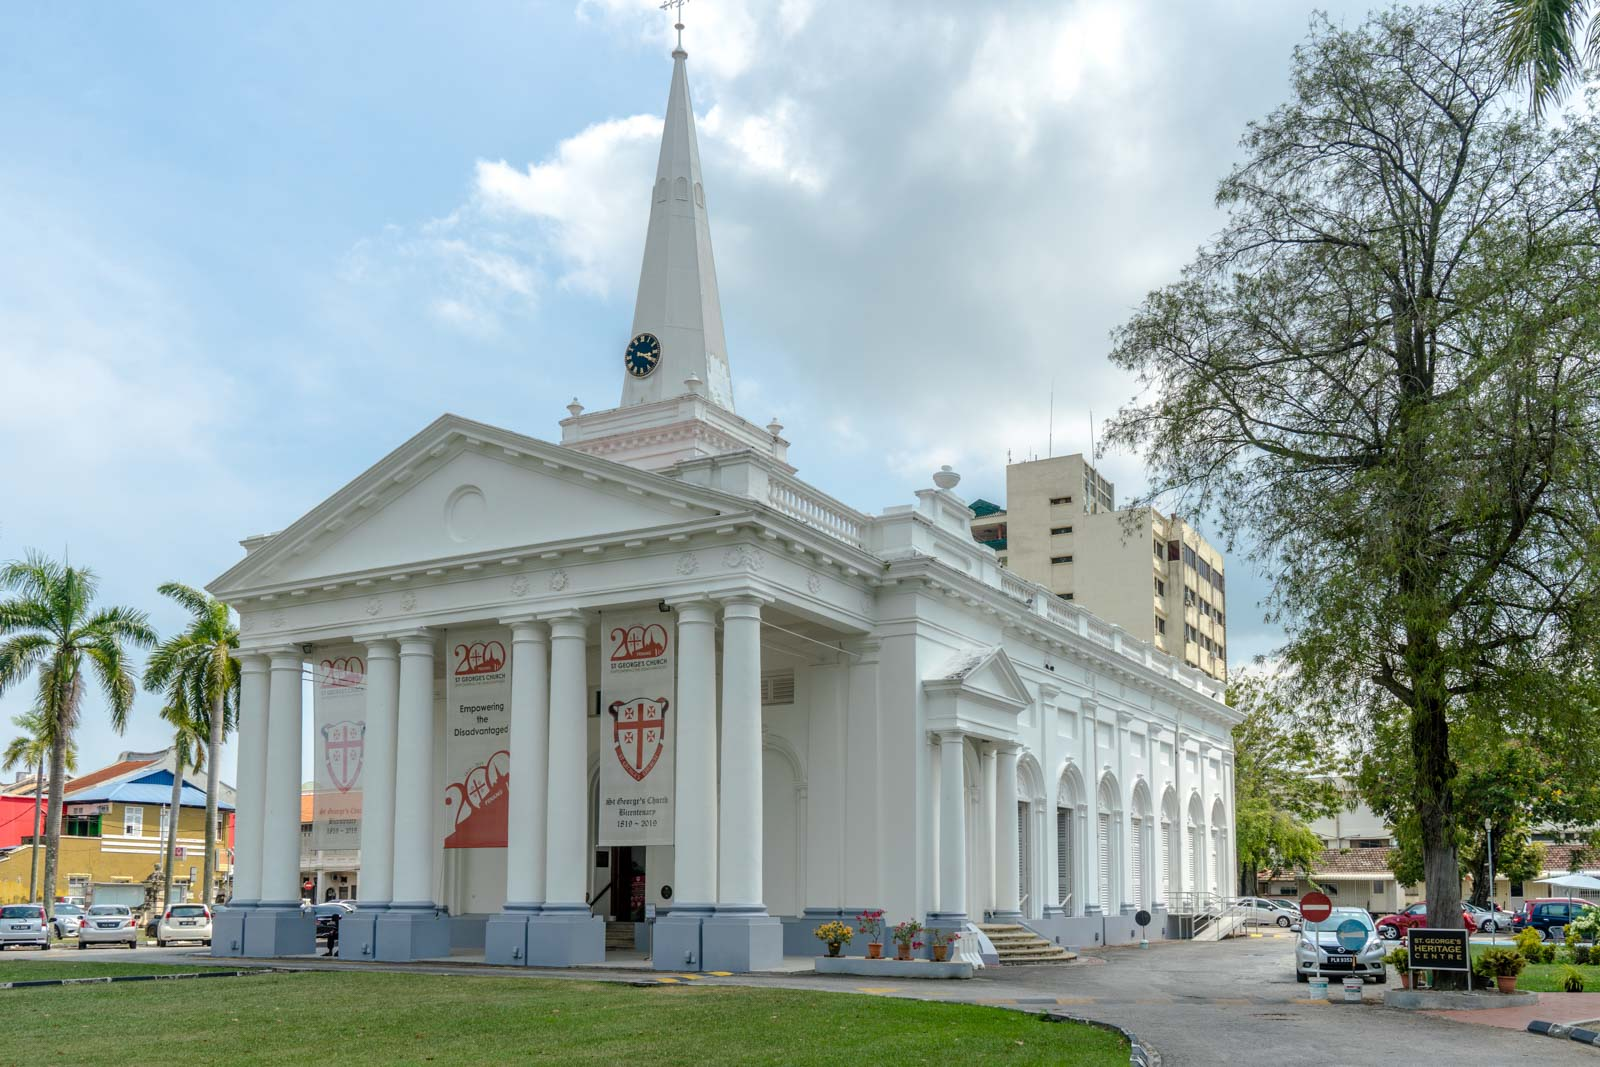Church: (208, 11, 1239, 948)
